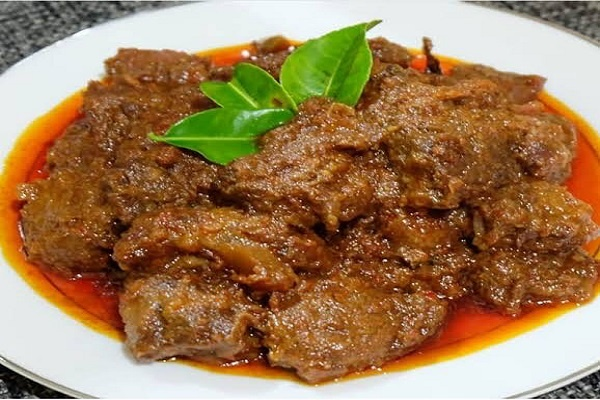rendang: (25, 56, 587, 347)
